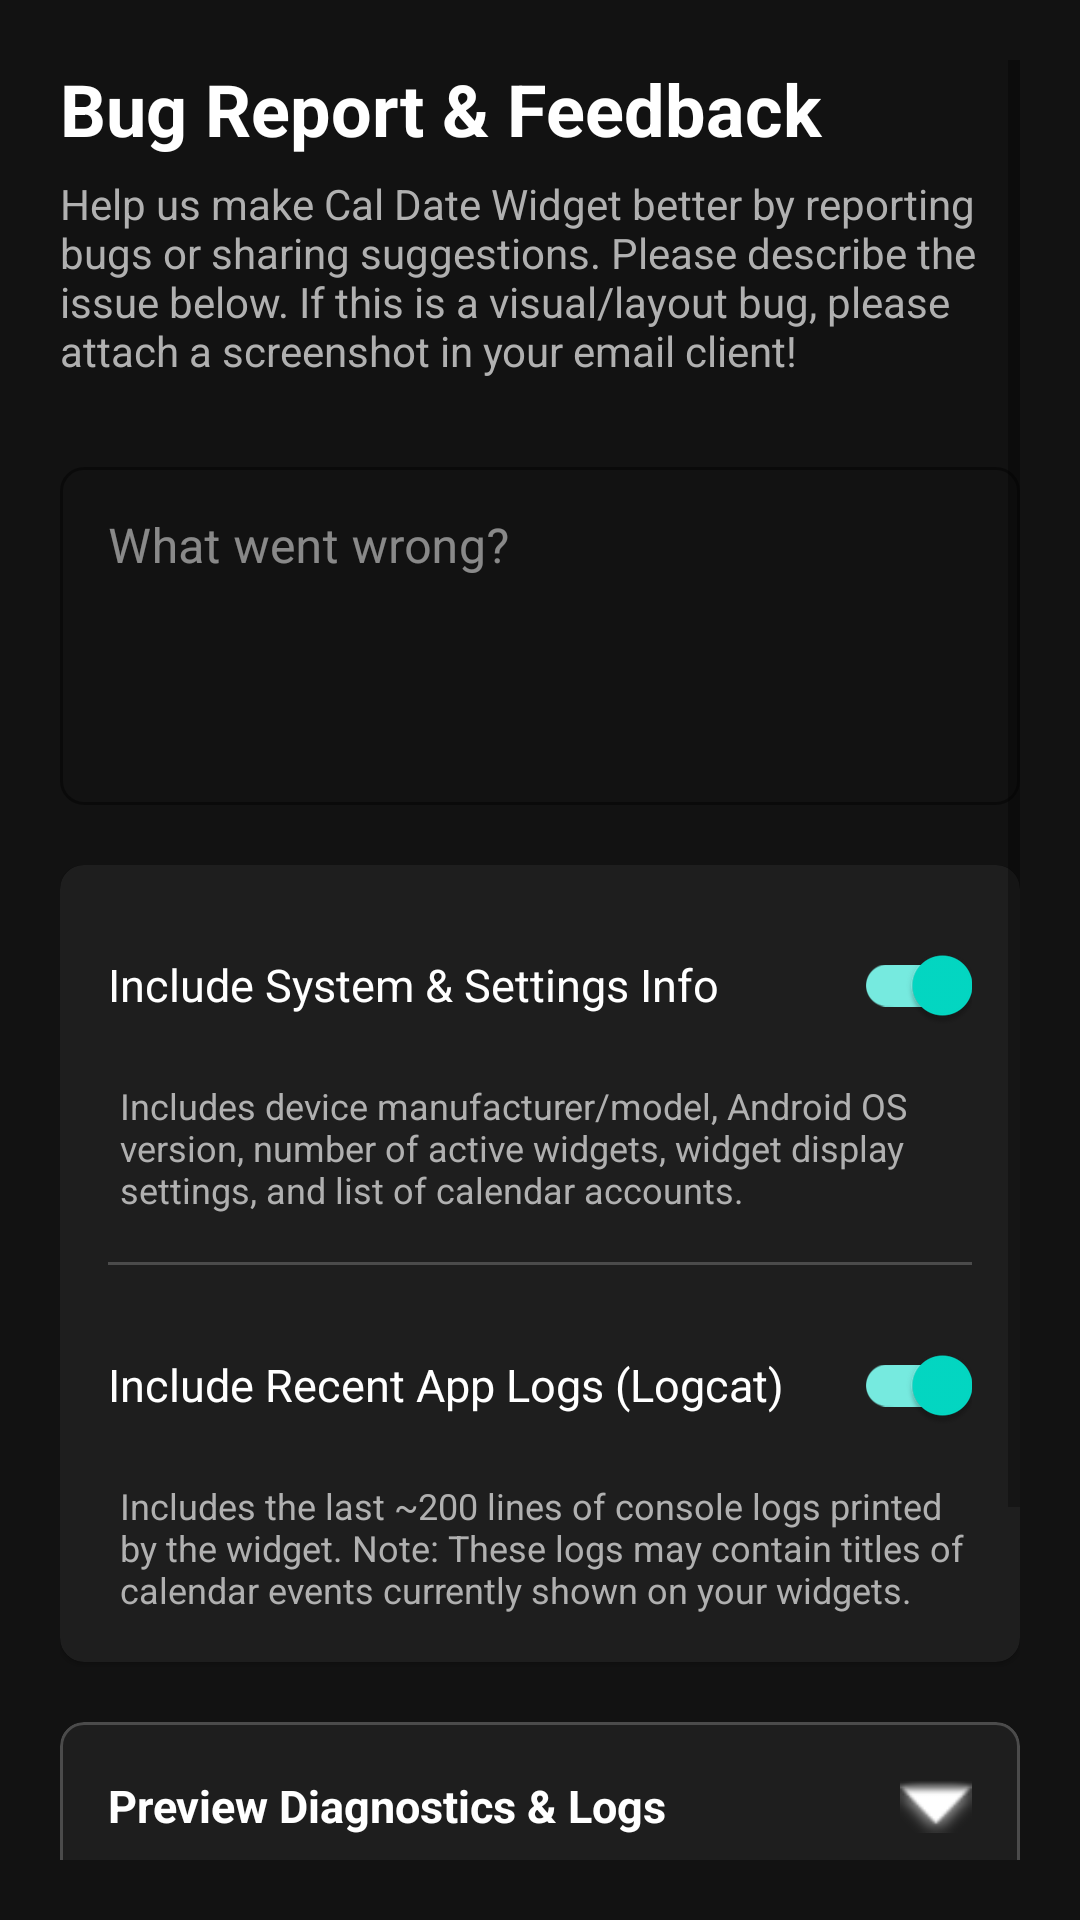

Screen size 1080x1920. Icon name, then its box in pixels as (x1, y1, x2, y2):
arrow down float: (900, 1782, 972, 1830)
